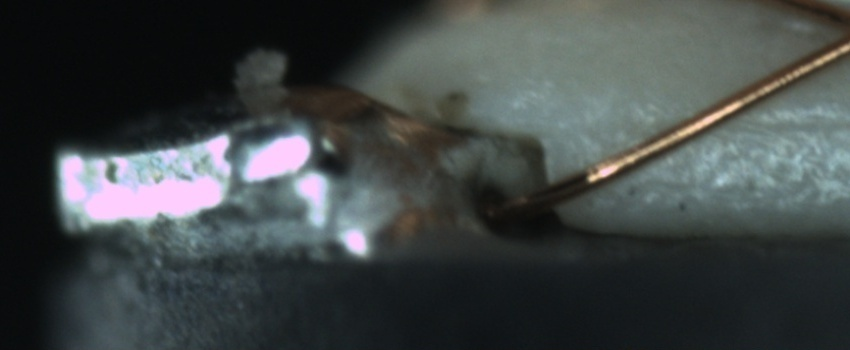DL: (707, 93, 848, 155)
